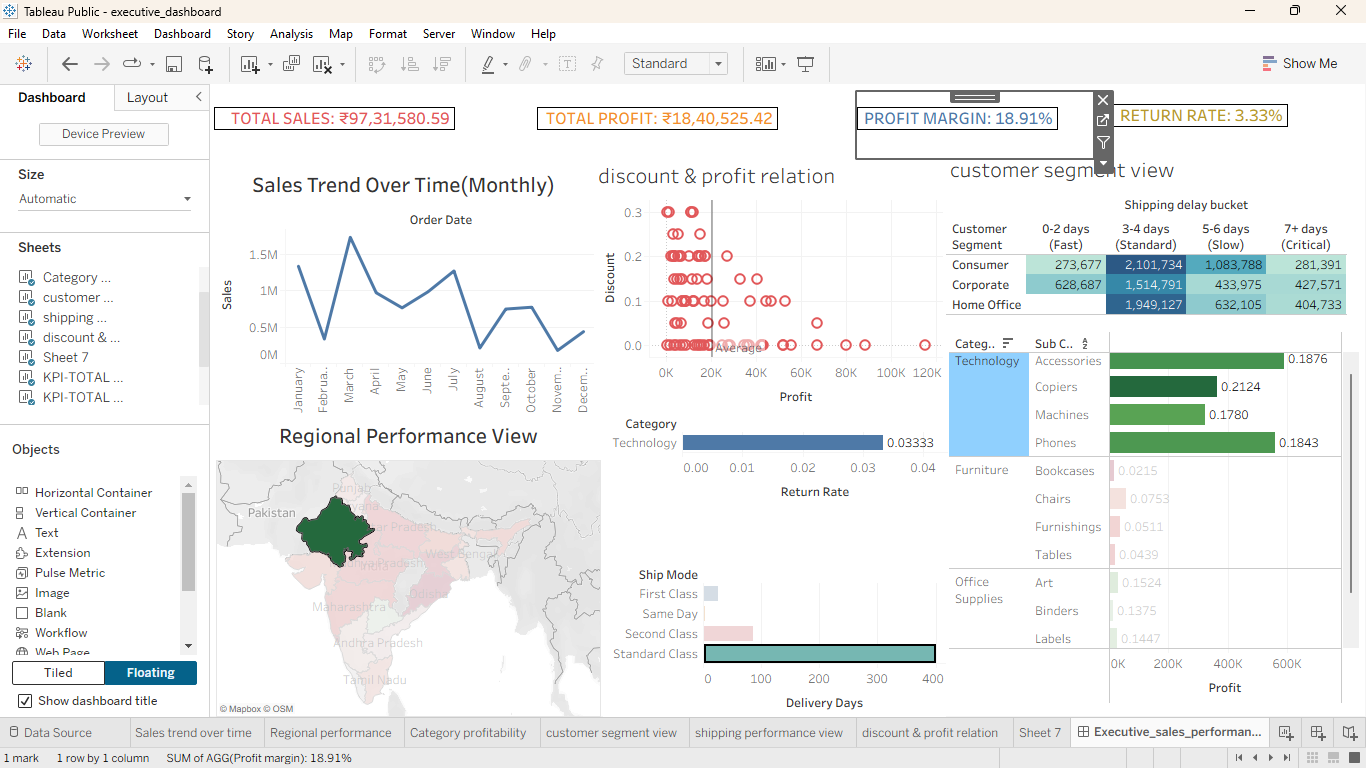

The page's visual inventory and layout, read from the dashboard file:
{"tool":"tableau","page":{"name":"Executive_sales_performance_dashboard","canvas":[1000,1000],"units":"permille","ordinal":0},"visuals":[{"type":"worksheet","title":"KPI-RETURN RATE","mark":"Automatic","box":[776.6,7.9,217.3,110.8]},{"type":"worksheet","title":"KPI-TOTAL SALES","mark":"Automatic","box":[3.5,12.7,275.3,125]},{"type":"worksheet","title":"KPI-TOTAL PROFIT","mark":"Automatic","box":[283.1,12.7,272.7,123.4]},{"type":"worksheet","title":"KPI-PROFIT MARGIN","mark":"Automatic","box":[560.2,12.7,204.3,104.4]},{"type":"worksheet","title":"customer segment view","mark":"Square","rows":["customer_segment"],"cols":["Calculation_0726518959407110"],"box":[637.2,106,348.9,267.4]},{"type":"worksheet","title":"discount & profit relation","mark":"Automatic","rows":["discount"],"cols":["profit"],"box":[332.5,115.5,302.2,403.5]},{"type":"worksheet","title":"Sales trend over time","mark":"Automatic","rows":["sales"],"cols":["order_date"],"box":[0.9,129.8,333.3,394]},{"type":"worksheet","title":"Category profitability","mark":"Automatic","rows":["category","sub_category"],"cols":["profit"],"box":[639.8,394,355,587]},{"type":"worksheet","title":"Regional performance","mark":"Automatic","box":[5.2,526.9,333.3,474.7]},{"type":"worksheet","title":"Return analysis view","mark":"Automatic","rows":["category"],"cols":["Calculation_0726518980378631"],"box":[339.4,533.2,299.6,208.9]}]}

Visuals, with their boxes on the dashboard's canvas, which has no fixed pixel size, in thousandths of its width and height (x1, y1, x2, y2). These are canvas units, not pixel positions in the 1366x768 screenshot, which may show the page scaled, cropped or inside an application window:
"KPI-RETURN RATE" worksheet: x1=777, y1=8, x2=994, y2=119
"KPI-TOTAL SALES" worksheet: x1=4, y1=13, x2=279, y2=138
"KPI-TOTAL PROFIT" worksheet: x1=283, y1=13, x2=556, y2=136
"KPI-PROFIT MARGIN" worksheet: x1=560, y1=13, x2=764, y2=117
"customer segment view" worksheet (Square marks): x1=637, y1=106, x2=986, y2=373
"discount & profit relation" worksheet: x1=332, y1=116, x2=635, y2=519
"Sales trend over time" worksheet: x1=1, y1=130, x2=334, y2=524
"Category profitability" worksheet: x1=640, y1=394, x2=995, y2=981
"Regional performance" worksheet: x1=5, y1=527, x2=338, y2=1002
"Return analysis view" worksheet: x1=339, y1=533, x2=639, y2=742
